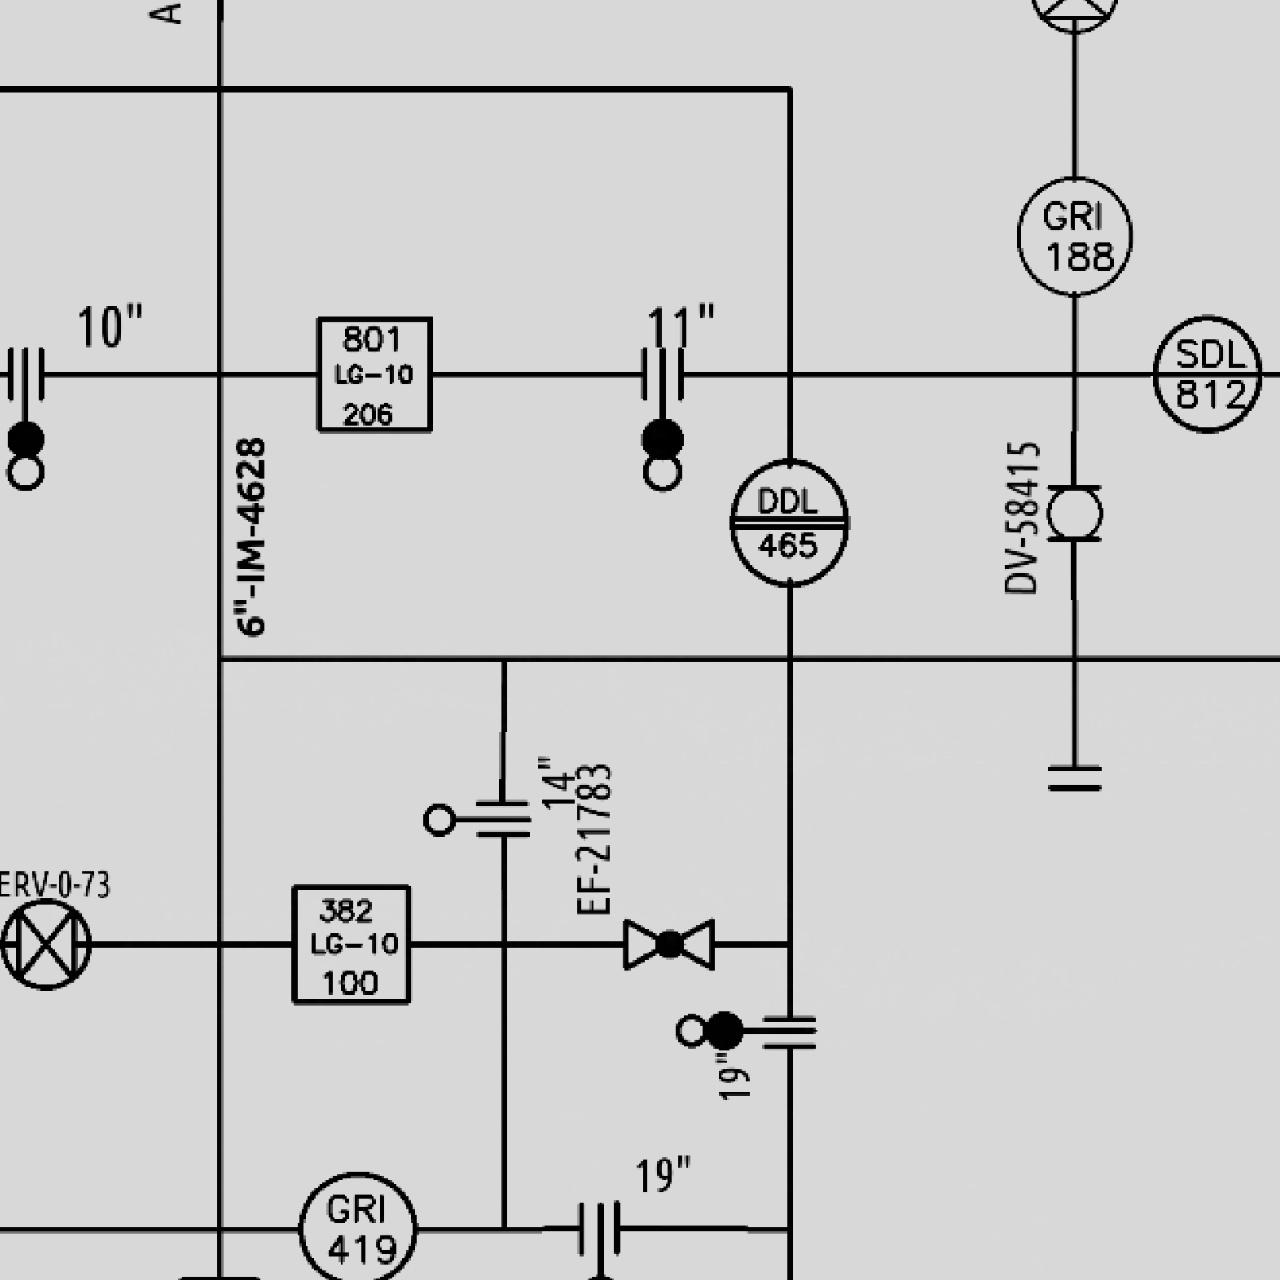Control-Panel: (720, 454, 857, 591)
